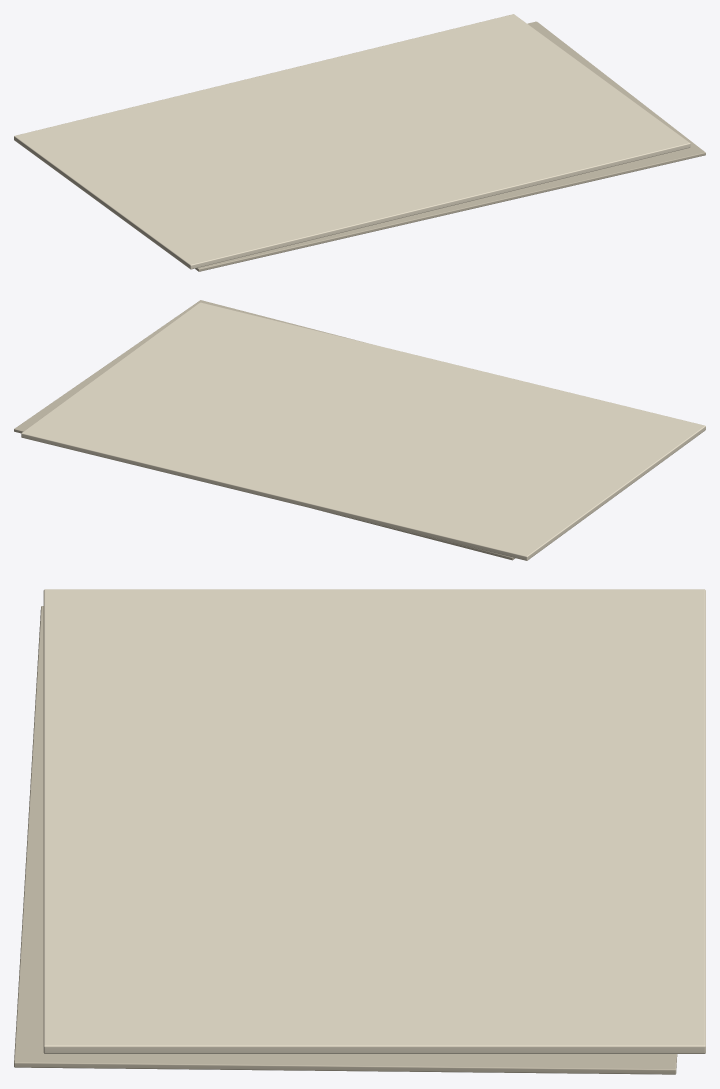
File: card.glb
3 renders of one model, top to bottom at view 1: azimuth 30°, elevation 25°; view 2: azimuth 150°, elevation 25°; view 3: azimuth 270°, elevation 25°, orthographic. The views are drawn at different scales.
Visible parts, largest first — view 1: card / Uncoated warm paper, card / Paper end grain; view 2: card / Uncoated warm paper, card / Paper end grain; view 3: card / Uncoated warm paper, card / Paper end grain.
Boxes of the visible parts, x1,y1,x2,y2 form: card / Uncoated warm paper: (14, 14, 690, 269); card / Paper end grain: (195, 21, 705, 271); card / Uncoated warm paper: (21, 302, 705, 560); card / Paper end grain: (14, 300, 515, 560); card / Uncoated warm paper: (43, 589, 705, 1053); card / Paper end grain: (14, 606, 677, 1074).
Bounding box in the file's own units: 4.12 × 0.0629 × 2.56.
